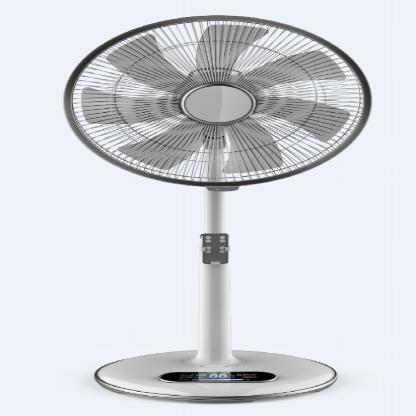fan: (59, 11, 376, 406)
